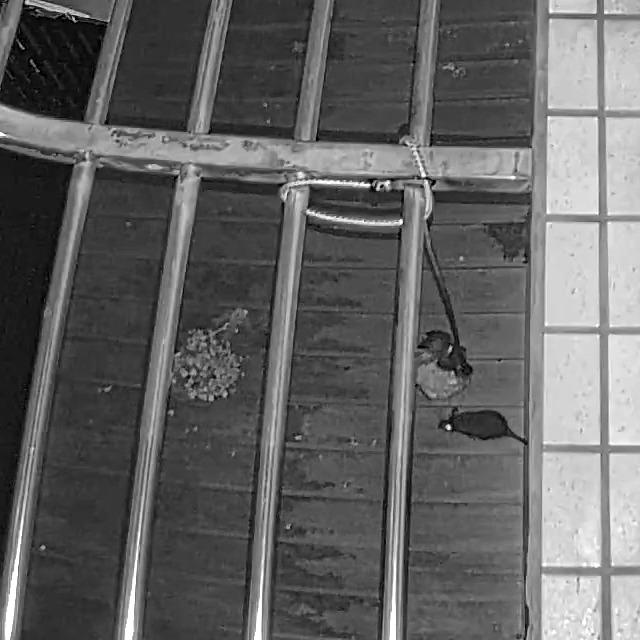rat: (434, 405, 530, 447)
